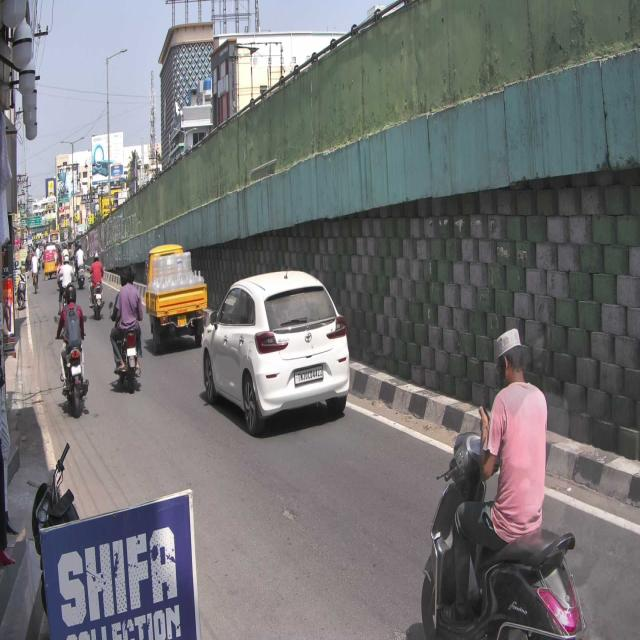single_rider: (420, 327, 590, 640)
